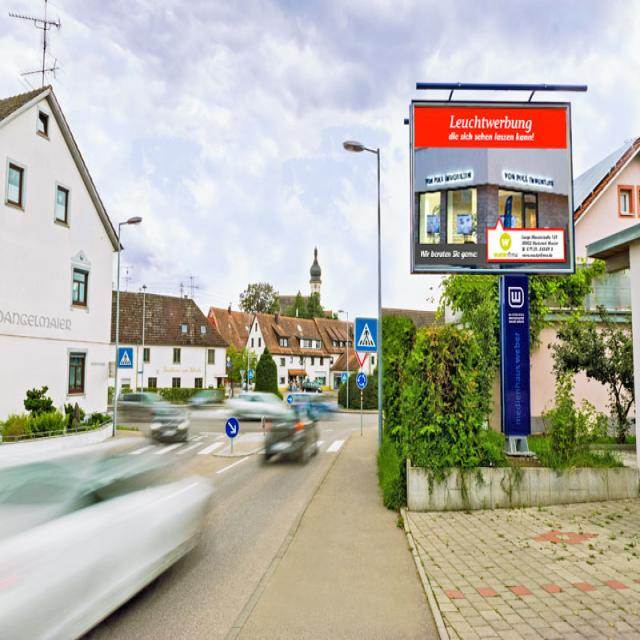Werbetafel frei: (408, 97, 581, 284)
